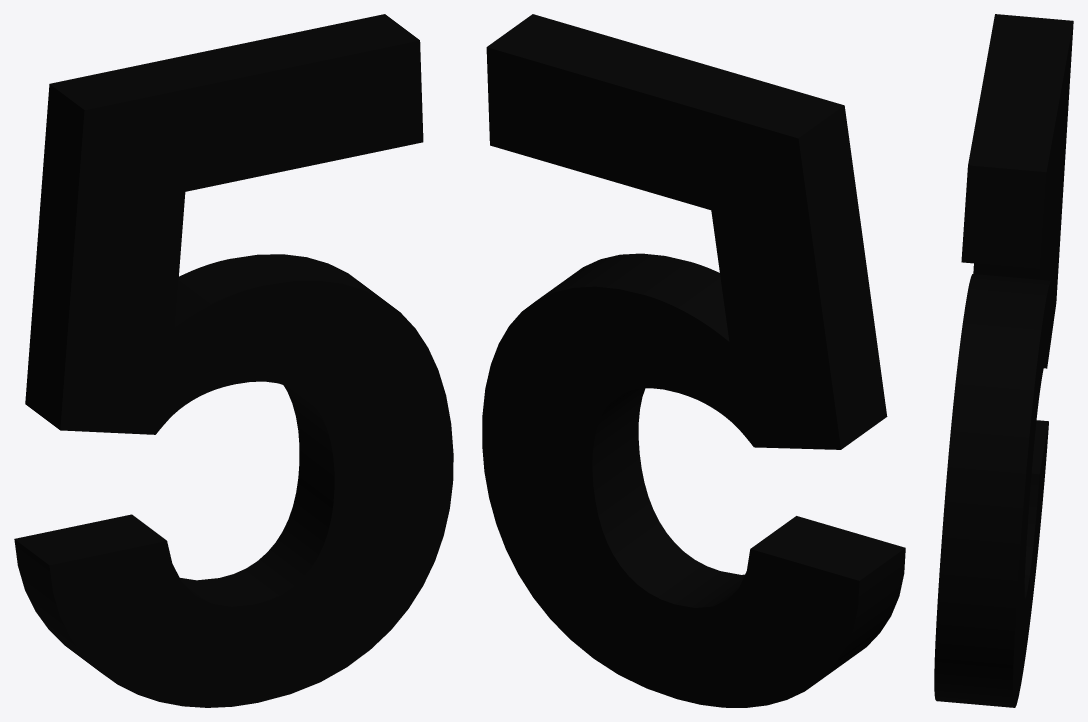
The model's file is five.fbx.
3 renders of one model, left to right at view 1: azimuth 30°, elevation 25°; view 2: azimuth 150°, elevation 25°; view 3: azimuth 270°, elevation 25°, orthographic. The views are drawn at different scales.
Visible parts, largest first — view 1: node_id194; view 2: node_id194; view 3: node_id194.
Part boxes in pixels (x1,y1,x2,y2): node_id194: (14,14,453,707); node_id194: (482,14,905,707); node_id194: (934,14,1073,707).
Size of the model in its own units: 0.1751 by 0.2614 by 0.0551.
Materials: 1 (1 with a texture image).
